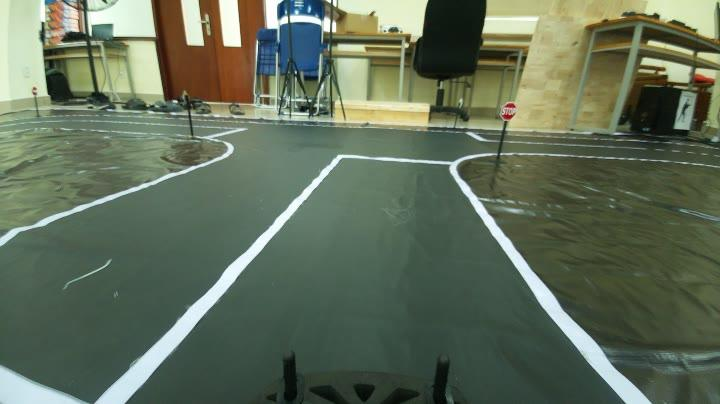stop: (492, 99, 522, 126)
